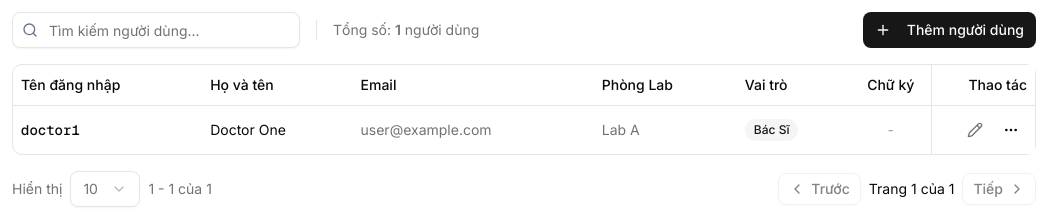
Test case: UserListTable row actions › keeps delete but omits OTP when the role cannot configure it
The width and height of the screenshot is (1048, 224).
What coordinates should you click on to do the following:
click the button named "Mở menu thao tác cho doctor1"
I would click on:
 (1011, 130)
Its box is left=995, top=114, right=1027, bottom=146.
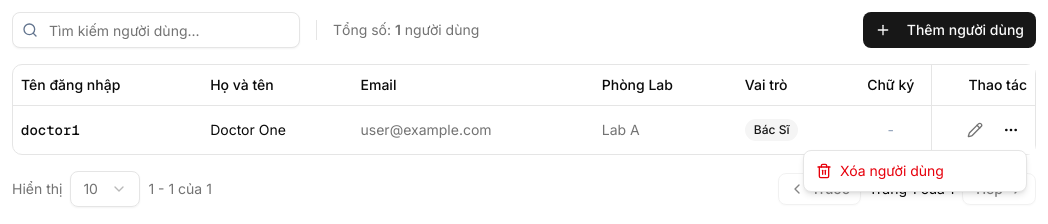
Expected: the menu item "Xóa người dùng" is shown, left=816, top=162, right=944, bottom=179
